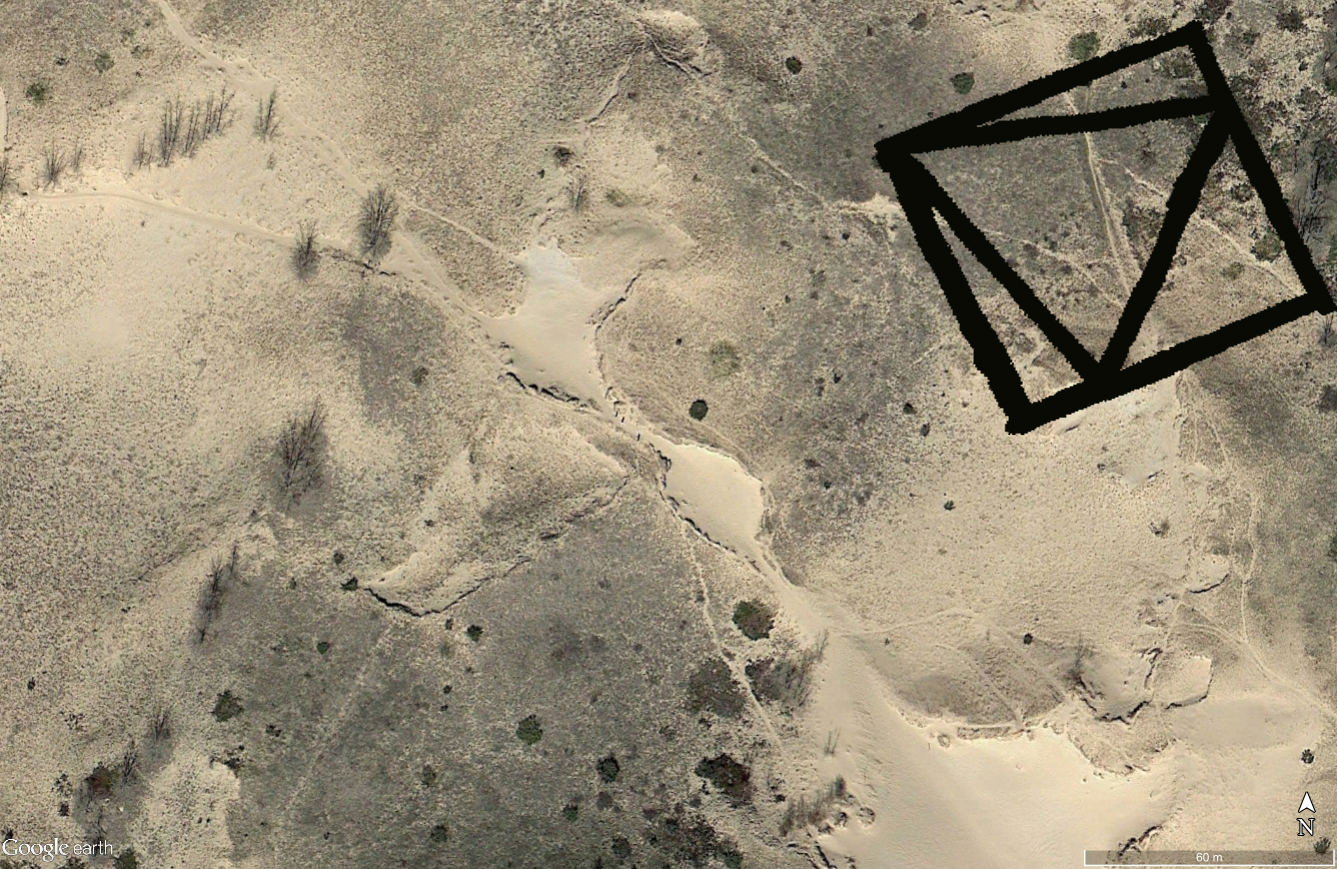marker: (872, 14, 1337, 443)
